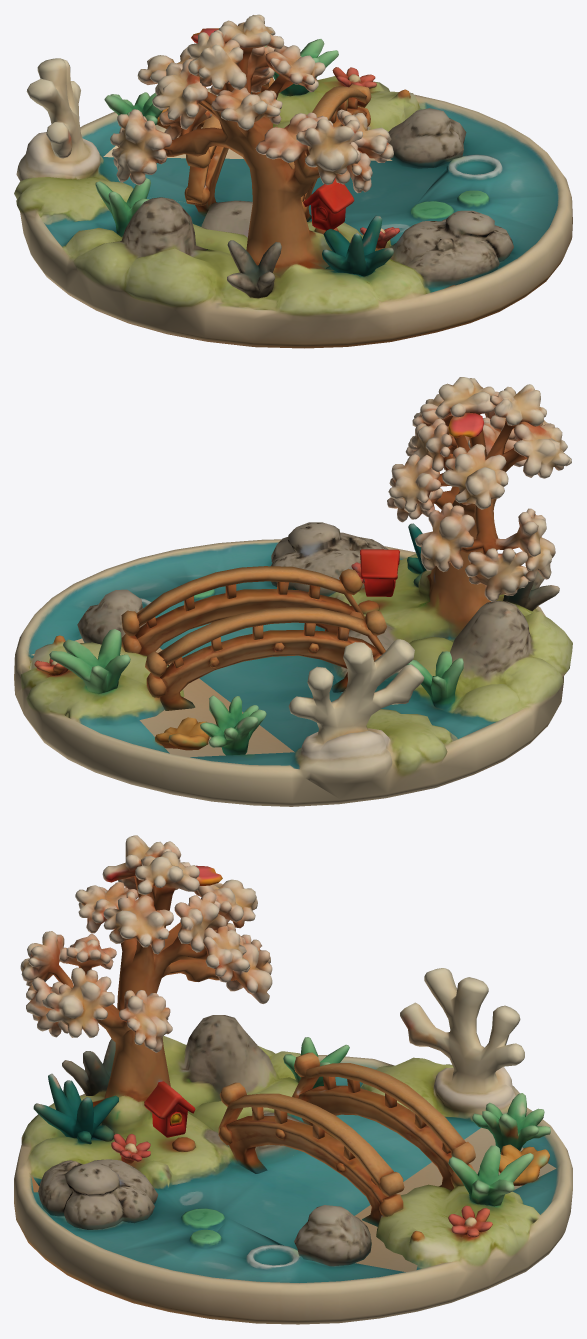
The model's file is garden.glb.
3 renders of one model, top to bottom at view 1: azimuth 30°, elevation 25°; view 2: azimuth 150°, elevation 25°; view 3: azimuth 270°, elevation 25°, orthographic.
Parts seen in each view (by area): view 1: tripo_node_aada3a89-960a-4d11-8871-1e0c0c2c5d8f; view 2: tripo_node_aada3a89-960a-4d11-8871-1e0c0c2c5d8f; view 3: tripo_node_aada3a89-960a-4d11-8871-1e0c0c2c5d8f.
Part boxes in pixels (<box>): tripo_node_aada3a89-960a-4d11-8871-1e0c0c2c5d8f: <box>14,14,572,348</box>; tripo_node_aada3a89-960a-4d11-8871-1e0c0c2c5d8f: <box>14,377,572,806</box>; tripo_node_aada3a89-960a-4d11-8871-1e0c0c2c5d8f: <box>14,835,572,1324</box>.
Size of the model in its own units: 0.998 by 0.584 by 0.998.
Materials: 1 (1 with a texture image).
